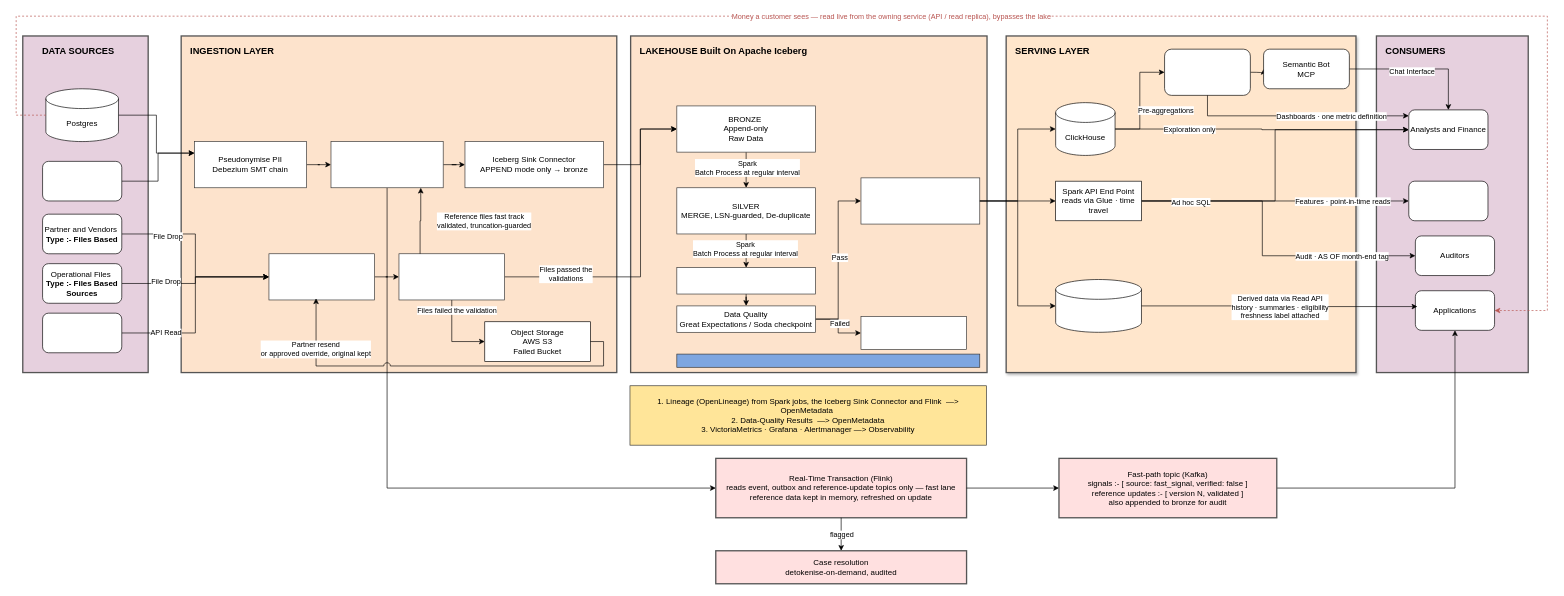
Image size: 1564x596. Some labels were removed from this diagram. The shapes that lost their labels are listed below. From the top down, each one's centre as x and y in pixels, then its label:
At [1207,72]: "Semantic Layer Defined on Cube.dev refreshed per version".
At [82,181]: "Applications Type :- Events".
At [386,164]: "Kafka TTL = 7 Days".
At [920,200]: "GOLD Business Aggregated Tables copies load after the gate, version-stamped".
At [1448,201]: "Data Scientists".
At [321,276]: "Object Storage AWS S3 Encrypted at Rest Retention Period - 14 Days".
At [451,276]: "File Loader Utility Spark batch pipeline tokenises PII on read".
At [745,280]: "Gold · temporary audit branch".
At [1098,305]: "Online store Aurora PostgreSQL".
At [82,333]: "Application Type :- API Endpoints".
At [913,332]: "Branch Held Ad hoc Queries Run TTL 14 Days".
At [828,360]: "Glue Catalog".
